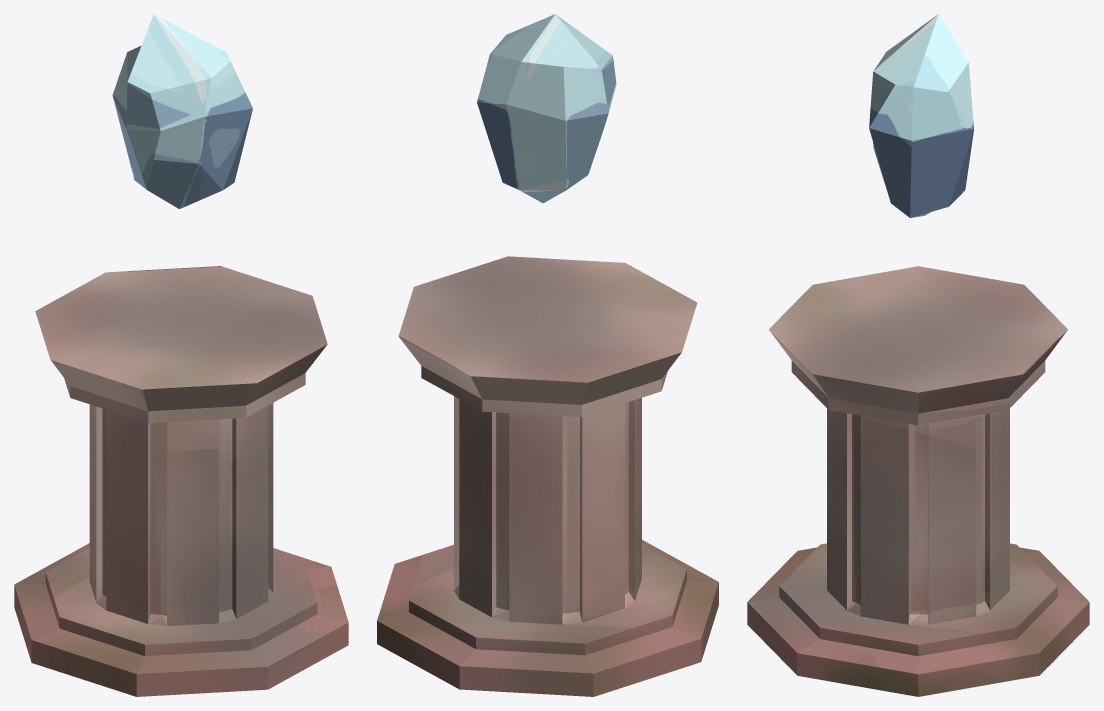
The model's file is Pillar.fbx.
3 views of the same model, side by side, from view 1: azimuth 30°, elevation 25°; view 2: azimuth 150°, elevation 25°; view 3: azimuth 270°, elevation 25° (orthographic). The views are drawn at different scales.
Parts seen in each view (by area): view 1: 圆环, 立方体; view 2: 圆环, 立方体; view 3: 圆环, 立方体.
Boxes of the visible parts, <box> form: 圆环: <box>14,266,348,696</box>; 立方体: <box>112,14,252,209</box>; 圆环: <box>377,256,718,696</box>; 立方体: <box>477,14,616,203</box>; 圆环: <box>747,266,1089,696</box>; 立方体: <box>869,14,973,217</box>.
Bounding box in the file's own units: 2.89 × 5.61 × 2.89.
